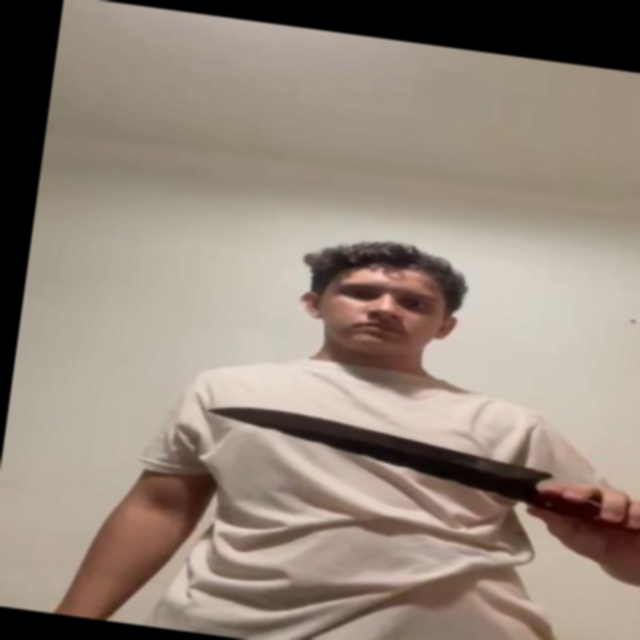Sharp-Object: (202, 399, 557, 507)
